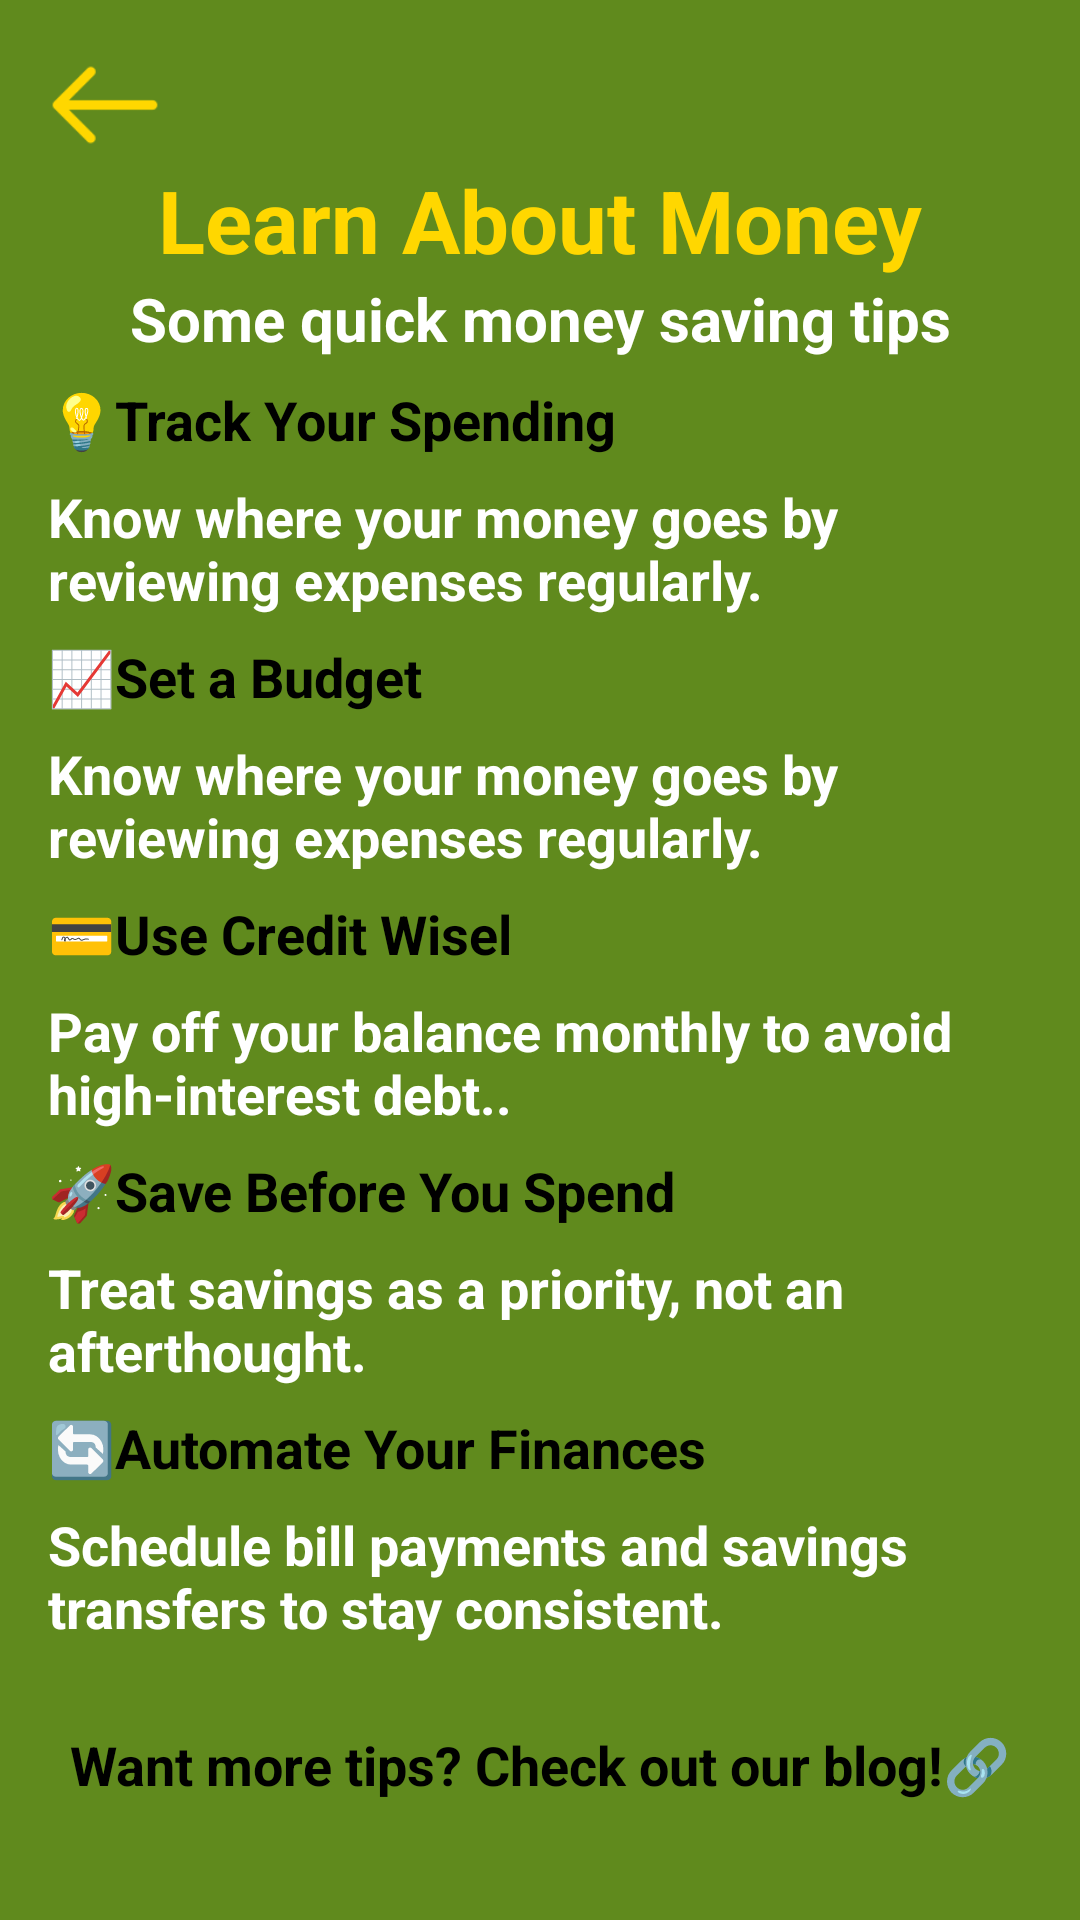

Screen size 1080px×1920px. Icon name, then its box in pixels as [x1=x1, y1=y1, x2=x2, y2=y2]:
back: [x1=52, y1=66, x2=158, y2=144]
